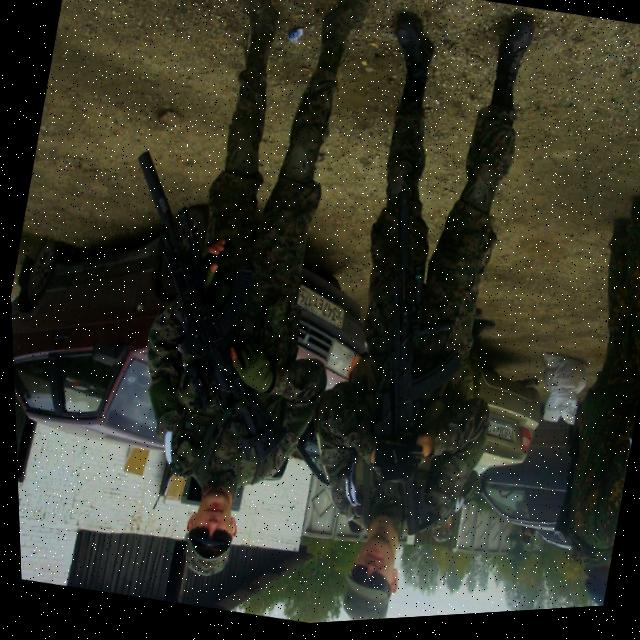firearm: (75, 136, 334, 477), (323, 188, 502, 549)
